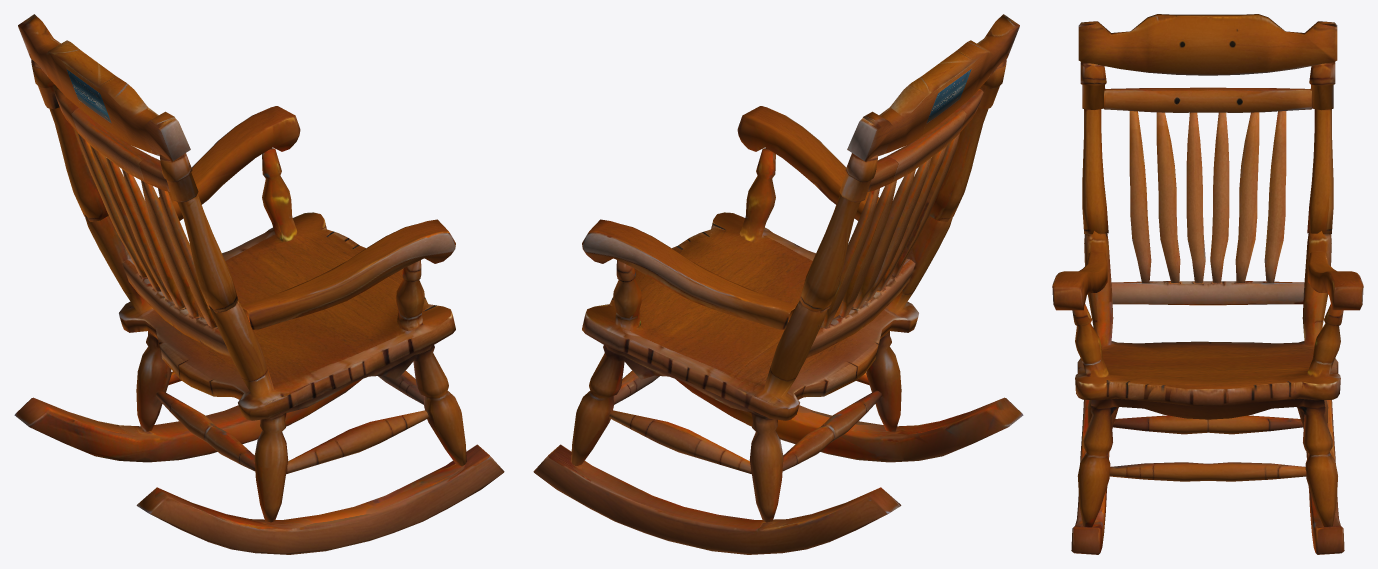
The model's file is 木质摇椅.fbx.
3 renders of one model, left to right at view 1: azimuth 30°, elevation 25°; view 2: azimuth 150°, elevation 25°; view 3: azimuth 270°, elevation 25°, orthographic. The views are drawn at different scales.
Parts seen in each view (by area): view 1: tripo_node_6bc91854; view 2: tripo_node_6bc91854; view 3: tripo_node_6bc91854.
Boxes of the visible parts, <box> form: tripo_node_6bc91854: <box>14,14,504,554</box>; tripo_node_6bc91854: <box>533,14,1023,554</box>; tripo_node_6bc91854: <box>1052,14,1363,554</box>.
Size of the model in its own units: 0.7339 by 0.9498 by 0.6277.
1 material, 1 textured.
